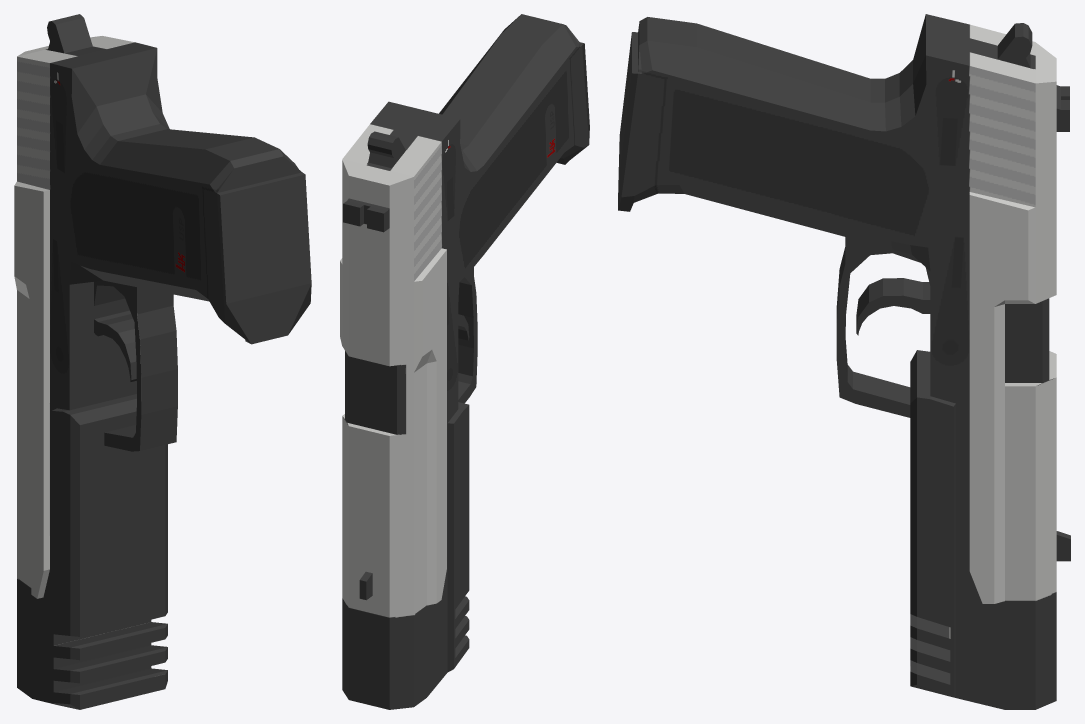
The model's file is uspmatch.fbx.
The picture shows the model from 3 angles, left to right: view 1: azimuth 30°, elevation 25°; view 2: azimuth 150°, elevation 25°; view 3: azimuth 270°, elevation 25°; orthographic projection. The views are drawn at different scales.
Visible parts, largest first — view 1: USP Match; view 2: USP Match; view 3: USP Match.
Boxes of the visible parts, x1=… form: USP Match: x1=14, y1=14, x2=311, y2=709; USP Match: x1=340, y1=14, x2=589, y2=709; USP Match: x1=618, y1=14, x2=1070, y2=709.
Size of the model in its own units: 0.0247 by 0.1606 by 0.0997.
